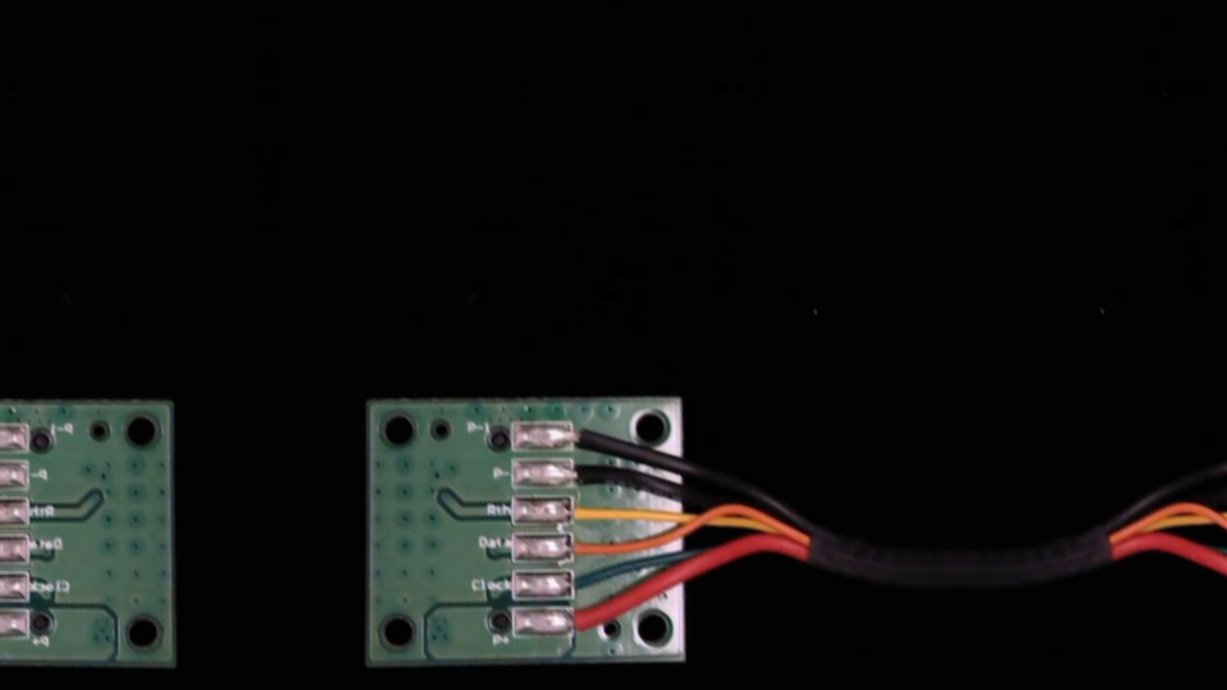Black: (553, 456, 625, 492)
Black1: (553, 421, 611, 452)
Green: (556, 564, 614, 600)
Orange: (556, 533, 613, 564)
Red: (556, 604, 614, 636)
Yellow: (556, 495, 613, 527)
